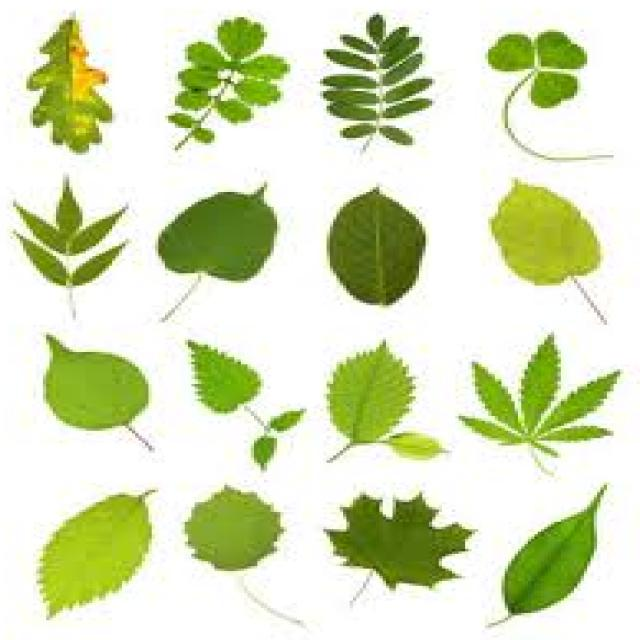leaves: (461, 337, 620, 458), (328, 496, 472, 590), (510, 486, 605, 616), (47, 496, 144, 616), (328, 189, 426, 305), (158, 189, 278, 281), (491, 184, 596, 285), (45, 337, 147, 430), (330, 344, 412, 444), (186, 488, 281, 571), (189, 342, 258, 412), (71, 209, 122, 255), (18, 237, 65, 286), (17, 207, 65, 252), (75, 244, 122, 286), (55, 179, 82, 239), (385, 434, 444, 460), (253, 437, 276, 470), (270, 411, 300, 430)
